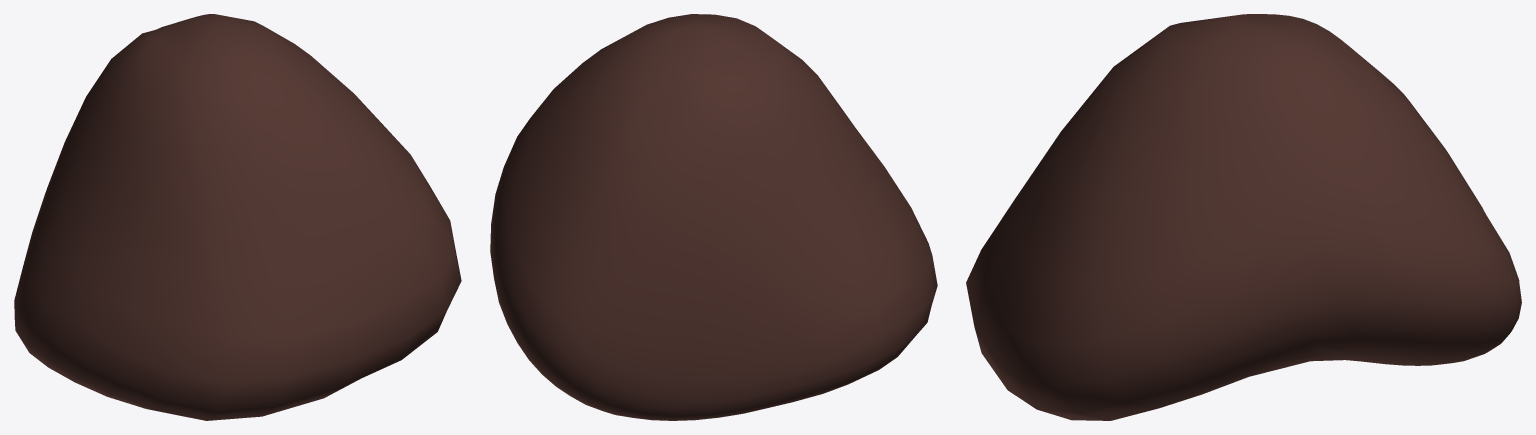
Rendered from pileofdirt.fbx.
The picture shows the model from 3 angles, left to right: view 1: azimuth 30°, elevation 25°; view 2: azimuth 150°, elevation 25°; view 3: azimuth 270°, elevation 25°; orthographic projection. The views are drawn at different scales.
Visible parts, largest first — view 1: PileDirt; view 2: PileDirt; view 3: PileDirt.
Part boxes in pixels (box(x1,y1,x2,y2)): PileDirt: box(14, 14, 461, 420); PileDirt: box(490, 14, 937, 420); PileDirt: box(966, 14, 1521, 420).
Bounding box in the file's own units: 157 × 123 × 175.
